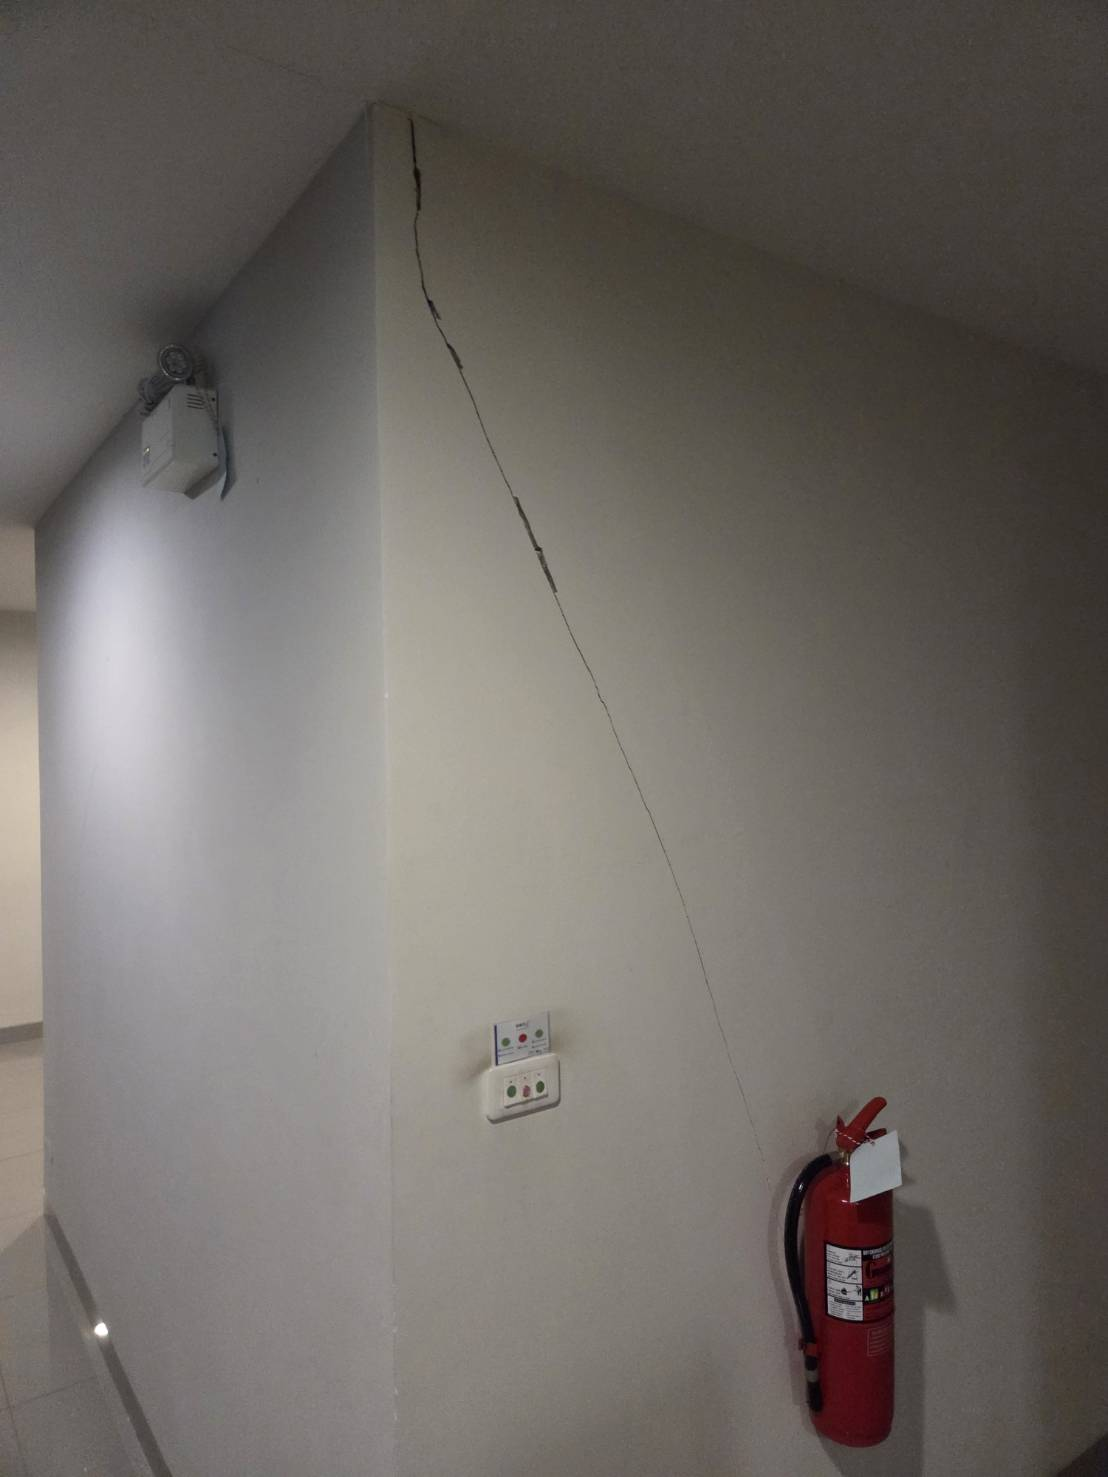Medium: (379, 111, 772, 1003)
